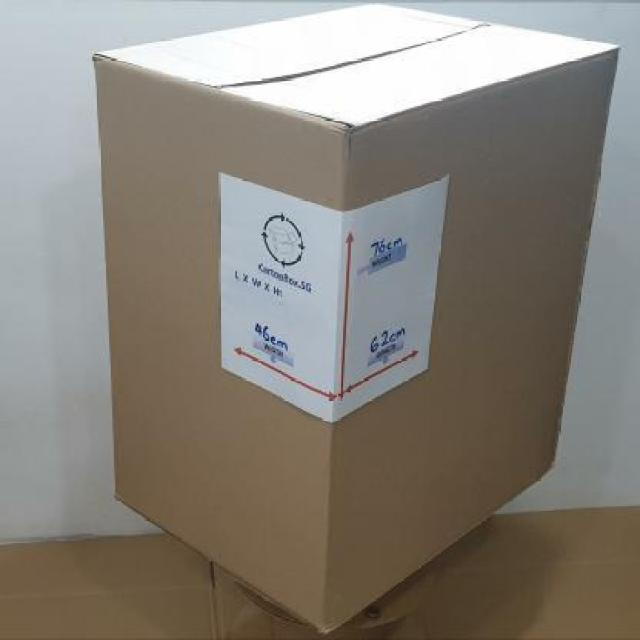box: (86, 11, 628, 640)
